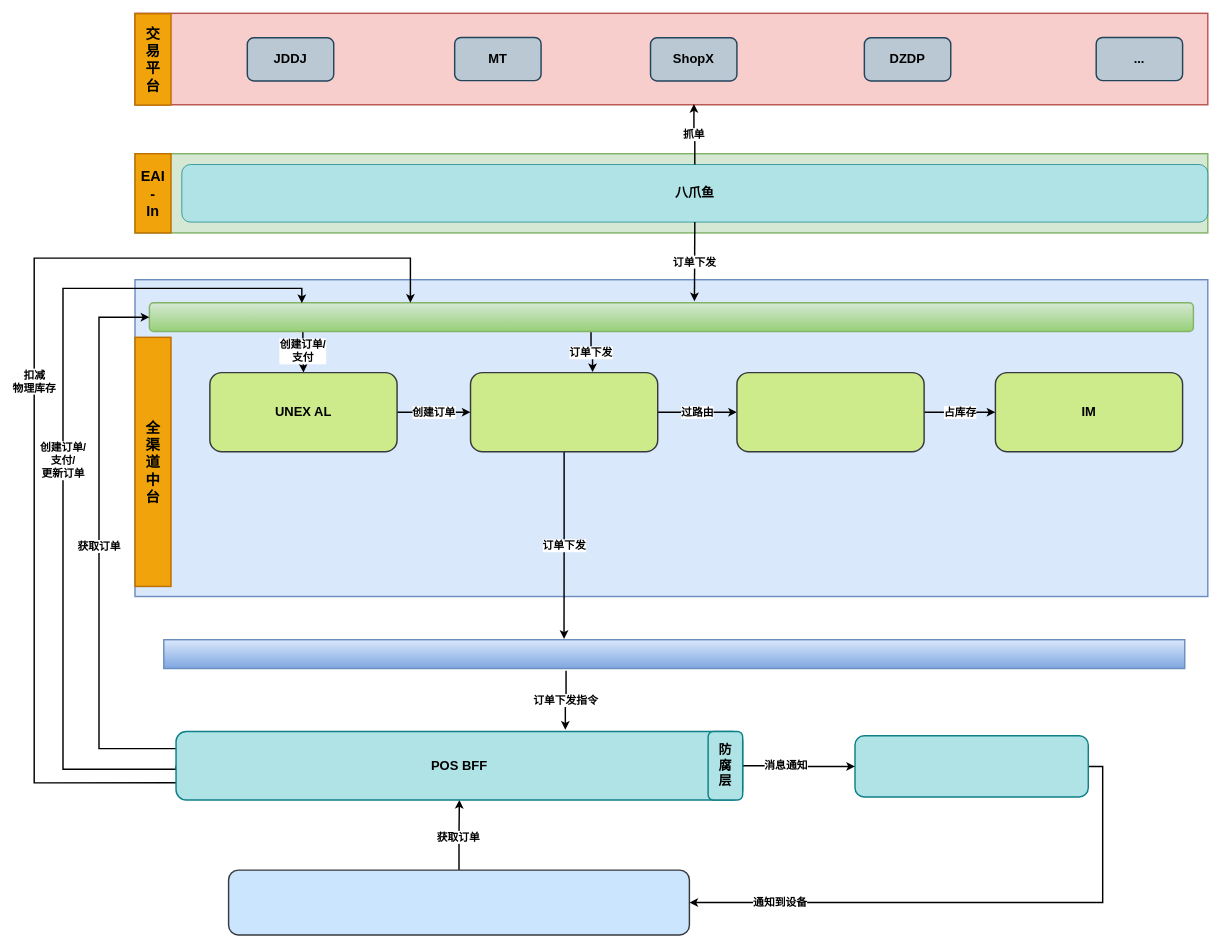
Image size: 1220x948. Some labels were removed from this diagram. The centre of each missing label's shape, as x and y in pixels:
"App" belongs at (459,902).
"Apple消息通知平台/ Android消息通知平台 (极光推送)" belongs at (971,766).
"Open API Ingress Gateway" belongs at (671,317).
"Open SPI Engress Gateway" belongs at (674,654).
"OR" belongs at (830,412).
"SOM" belongs at (563,412).
